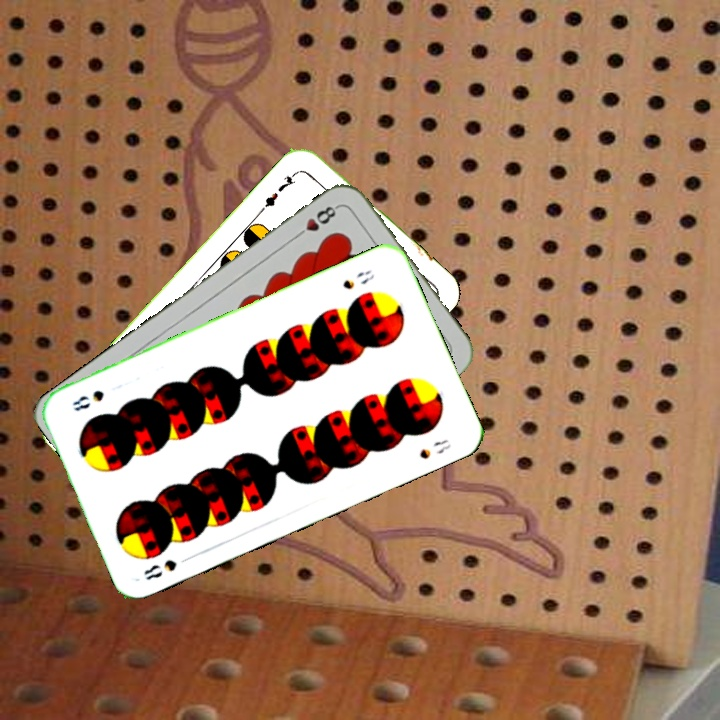E7: (257, 167, 302, 215)
H8: (290, 201, 342, 242)
S8: (139, 552, 194, 583), (338, 266, 377, 292)
